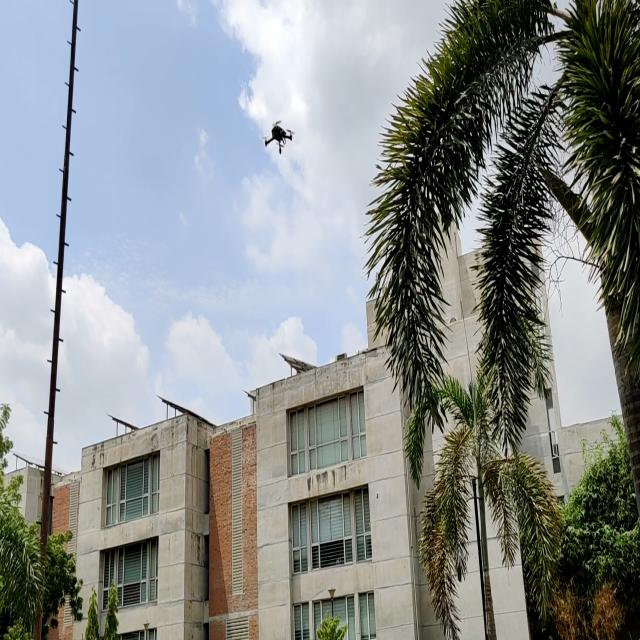drone: (257, 114, 300, 156)
